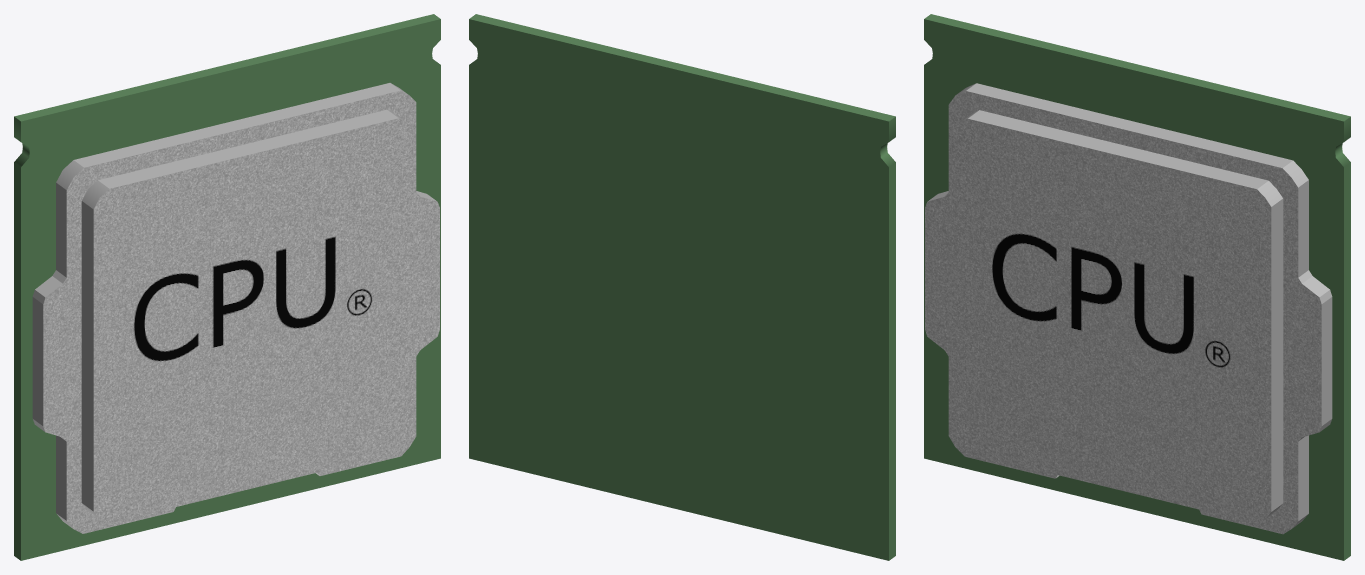
File: CPUFinal.fbx
3 renders of one model, left to right at view 1: azimuth 30°, elevation 25°; view 2: azimuth 150°, elevation 25°; view 3: azimuth 330°, elevation 25°, orthographic.
Parts seen in each view (by area): view 1: pCube841, pCube840; view 2: pCube840; view 3: pCube841, pCube840.
Boxes of the visible parts, bbox=[...] form: pCube841: bbox=[32, 83, 439, 533]; pCube840: bbox=[14, 14, 440, 560]; pCube840: bbox=[469, 14, 895, 560]; pCube841: bbox=[925, 83, 1332, 534]; pCube840: bbox=[924, 14, 1350, 560].
Bounding box in the file's own units: 4.83 × 4.83 × 0.5845.
